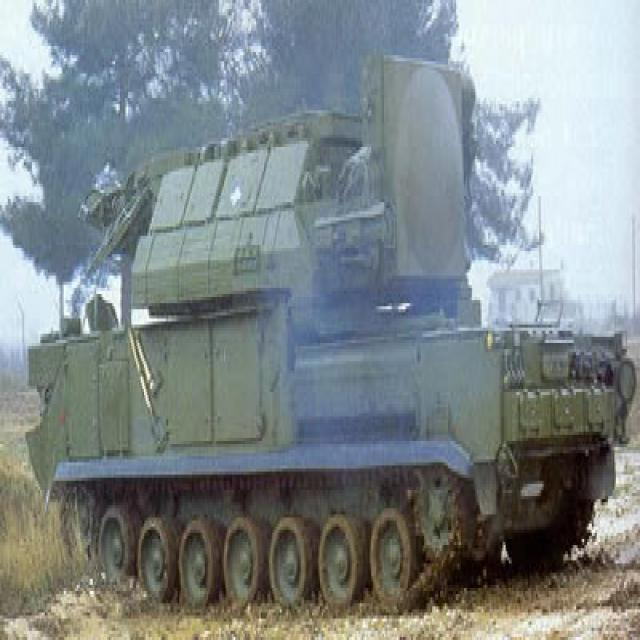MIL_EW_RDR: (26, 53, 634, 606)
